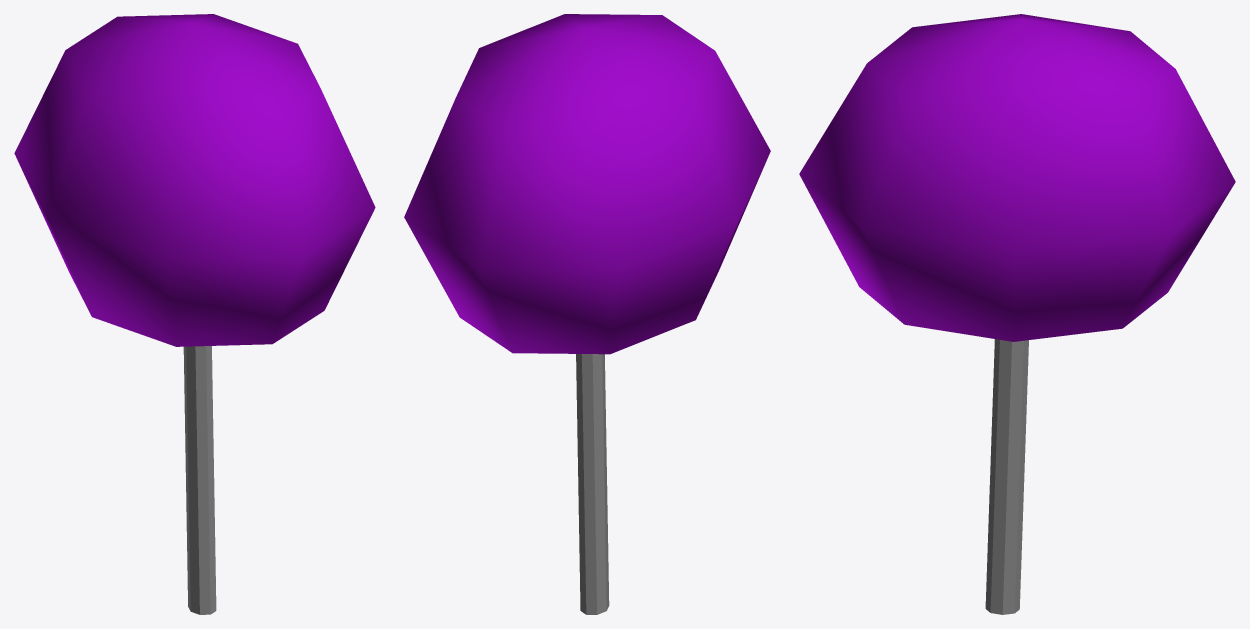
File: MOD_BalloonB.FBX
3 renders of one model, left to right at view 1: azimuth 30°, elevation 25°; view 2: azimuth 150°, elevation 25°; view 3: azimuth 270°, elevation 25°, orthographic.
Visible parts, largest first — view 1: Object003; view 2: Object003; view 3: Object003.
Part boxes in pixels (x1,y1,x2,y2): Object003: [14, 14, 375, 614]; Object003: [404, 14, 770, 614]; Object003: [799, 14, 1235, 614].
Size of the model in its own units: 18.5 by 34.48 by 23.14.
